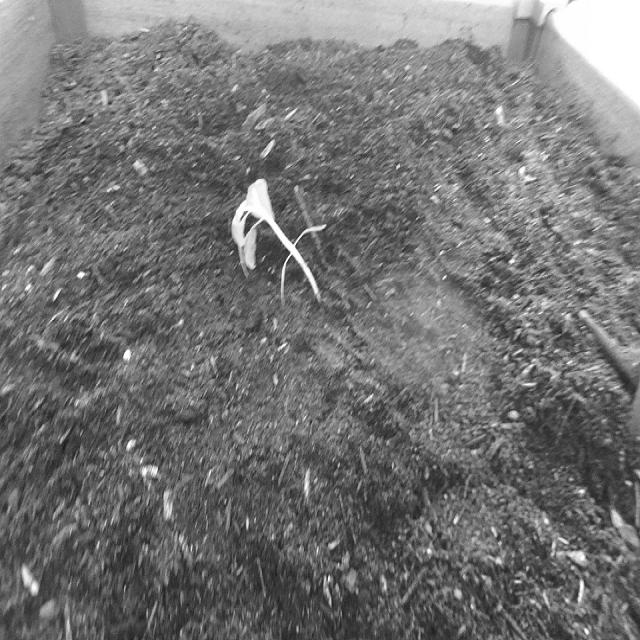Unhealthy: (229, 172, 331, 312)
